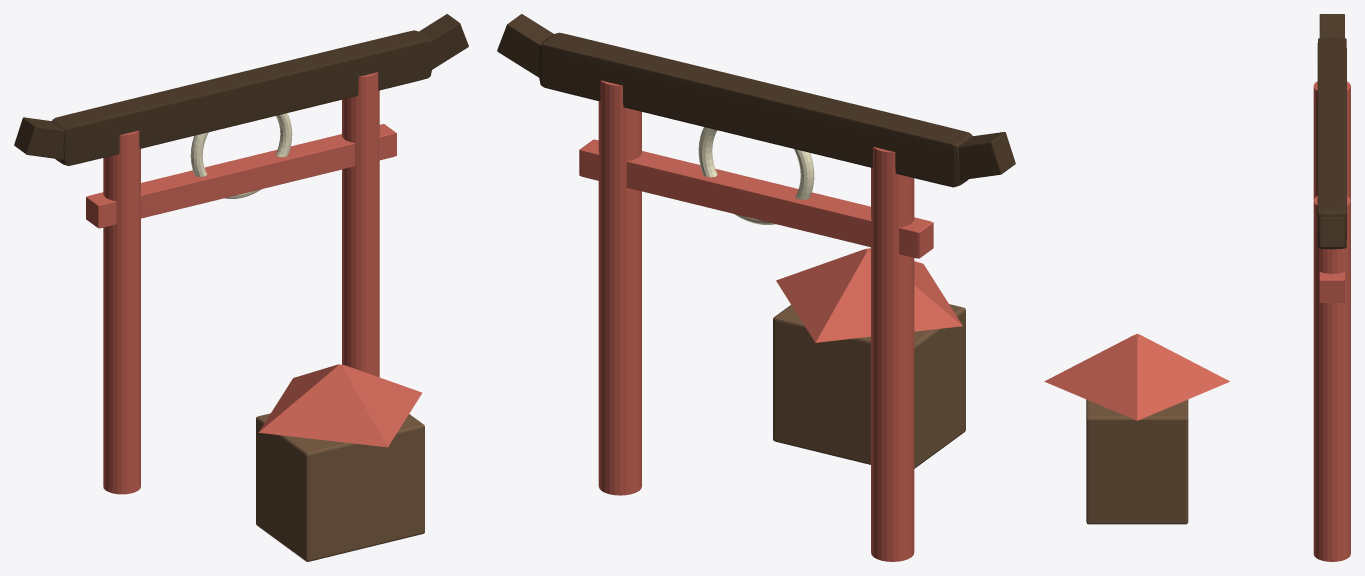
File: torii.glb
The picture shows the model from 3 angles, left to right: view 1: azimuth 30°, elevation 25°; view 2: azimuth 150°, elevation 25°; view 3: azimuth 270°, elevation 25°; orthographic projection. The views are drawn at different scales.
Visible parts, largest first — view 1: Torii; view 2: Torii; view 3: Torii.
Part boxes in pixels (x1,y1,x2,y2): Torii: (14,14,468,561); Torii: (497,14,1015,561); Torii: (1044,14,1350,561).
Size of the model in its own units: 5.93 by 4.96 by 3.62.
